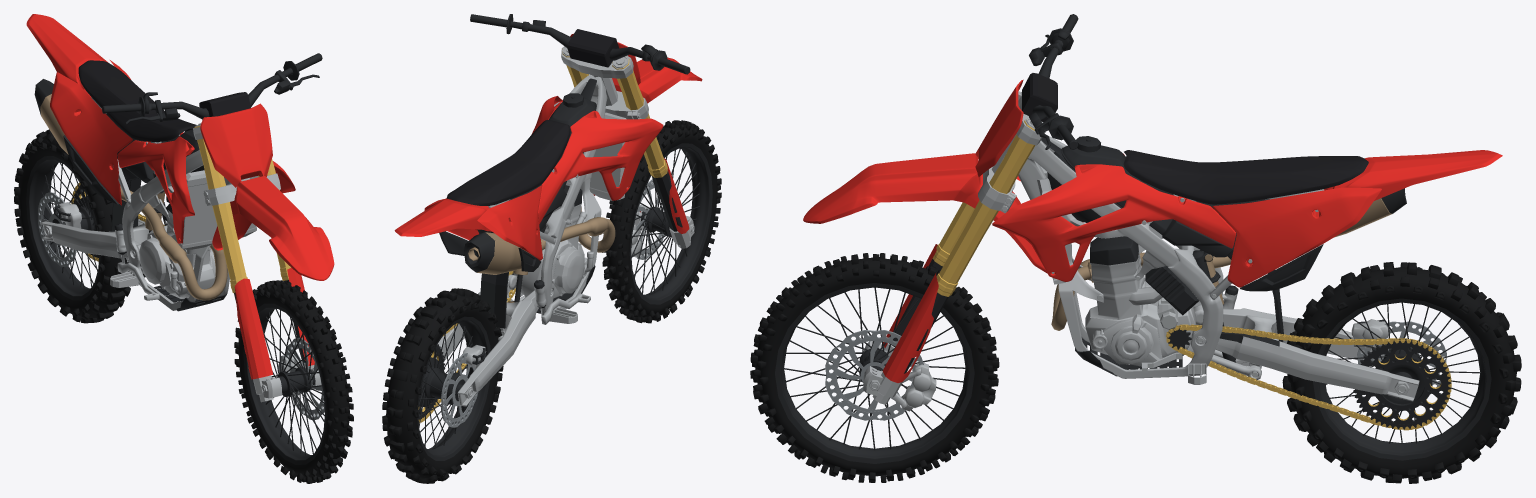
Rendered from bike.glb.
3 views of the same model, side by side, from view 1: azimuth 30°, elevation 25°; view 2: azimuth 150°, elevation 25°; view 3: azimuth 270°, elevation 25° (orthographic). The views are drawn at different scales.
Visible parts, largest first — view 1: CRF450 display stand-in; view 2: CRF450 display stand-in; view 3: CRF450 display stand-in.
Boxes of the visible parts, left/top/right/bottom form: CRF450 display stand-in: left=14, top=14, right=353, bottom=483; CRF450 display stand-in: left=382, top=14, right=721, bottom=483; CRF450 display stand-in: left=750, top=14, right=1521, bottom=483.
Size of the model in its own units: 0.8502 by 1.28 by 2.16.
